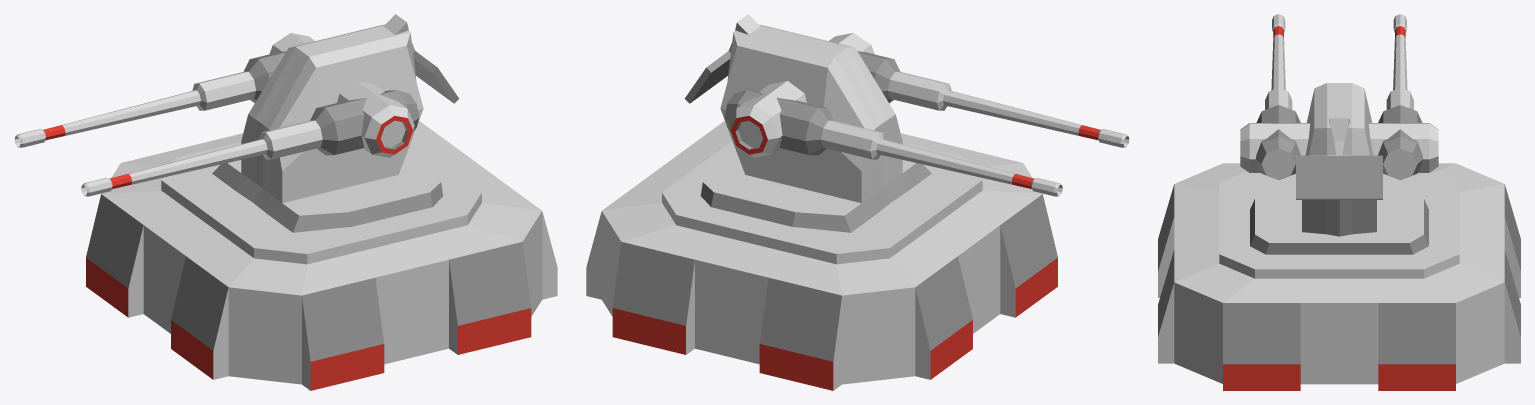
The model's file is turretAA.fbx.
3 renders of one model, left to right at view 1: azimuth 30°, elevation 25°; view 2: azimuth 150°, elevation 25°; view 3: azimuth 270°, elevation 25°, orthographic. The views are drawn at different scales.
Visible parts, largest first — view 1: Cube, Cube.001, Cylinder, Cube.002; view 2: Cube, Cube.001, Cylinder, Cube.002; view 3: Cube, Cube.001, Cylinder, Cube.002.
Boxes of the visible parts, x1,y1,x2,y2 form: Cube: (86,121,557,390); Cube.001: (212,24,443,232); Cylinder: (14,33,419,196); Cube.002: (383,14,459,103); Cube: (586,121,1057,390); Cube.001: (700,24,931,232); Cylinder: (724,33,1129,196); Cube.002: (684,14,760,103); Cube: (1158,163,1520,390); Cube.001: (1250,83,1428,254); Cylinder: (1240,14,1438,179); Cube.002: (1296,118,1382,199).
Size of the model in its own units: 622 by 340 by 483.
